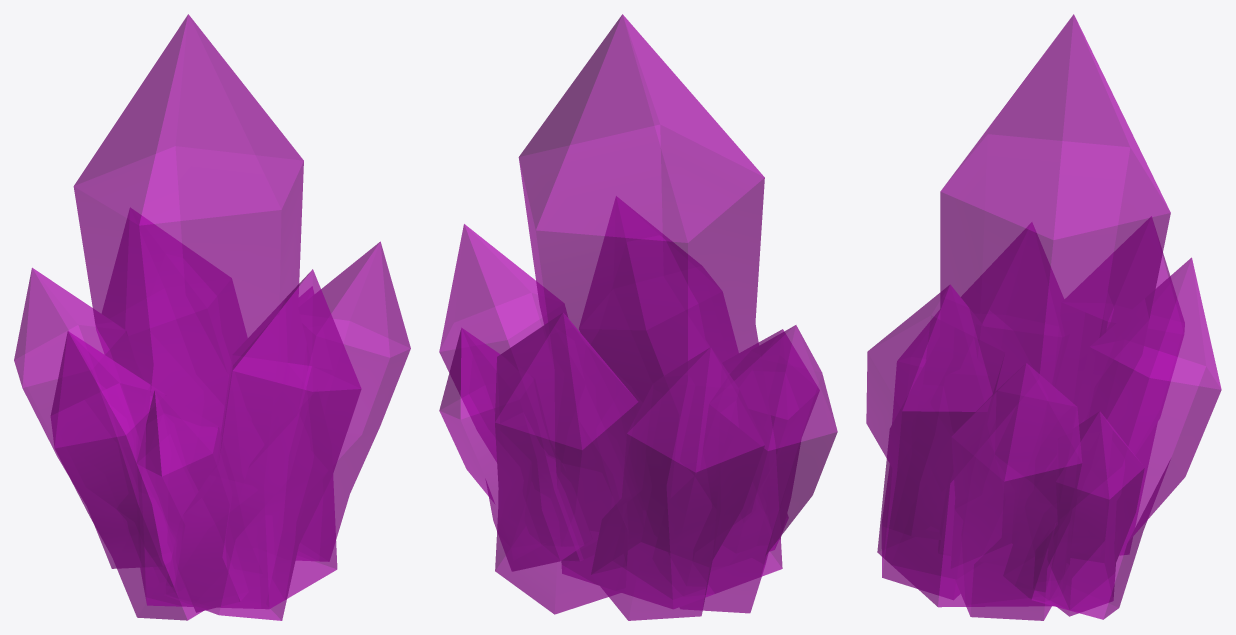
Rendered from gems.fbx.
The picture shows the model from 3 angles, left to right: view 1: azimuth 30°, elevation 25°; view 2: azimuth 150°, elevation 25°; view 3: azimuth 270°, elevation 25°; orthographic projection. The views are drawn at different scales.
Visible parts, largest first — view 1: pPyramid1, pPyramid5, pPyramid7, pPyramid8, pPyramid3, pPyramid2, pPyramid6; view 2: pPyramid1, pPyramid3, pPyramid8, pPyramid7, pPyramid5, pPyramid4, pPyramid2, pPyramid6; view 3: pPyramid1, pPyramid3, pPyramid2, pPyramid5, pPyramid8, pPyramid4, pPyramid7, pPyramid6.
Part boxes in pixels (x1=…): pPyramid1: x1=73, y1=14, x2=337, y2=609; pPyramid5: x1=164, y1=269, x2=361, y2=620; pPyramid7: x1=50, y1=331, x2=203, y2=620; pPyramid8: x1=14, y1=267, x2=172, y2=568; pPyramid3: x1=102, y1=208, x2=246, y2=432; pPyramid2: x1=296, y1=241, x2=410, y2=561; pPyramid6: x1=136, y1=389, x2=262, y2=612; pPyramid1: x1=518, y1=14, x2=782, y2=608; pPyramid3: x1=495, y1=312, x2=638, y2=614; pPyramid8: x1=591, y1=347, x2=764, y2=620; pPyramid7: x1=680, y1=325, x2=837, y2=613; pPyramid5: x1=579, y1=196, x2=788, y2=564; pPyramid4: x1=439, y1=327, x2=591, y2=571; pPyramid2: x1=439, y1=224, x2=596, y2=560; pPyramid6: x1=723, y1=329, x2=819, y2=538; pPyramid1: x1=877, y1=14, x2=1170, y2=607; pPyramid3: x1=1004, y1=257, x2=1221, y2=619; pPyramid2: x1=951, y1=363, x2=1082, y2=620; pPyramid5: x1=866, y1=284, x2=1004, y2=599; pPyramid8: x1=1055, y1=216, x2=1184, y2=554; pPyramid4: x1=1033, y1=411, x2=1144, y2=616; pPyramid7: x1=939, y1=223, x2=1063, y2=555; pPyramid6: x1=883, y1=310, x2=950, y2=540.
Bounding box in the file's own units: 14.93 × 22.41 × 12.39.
